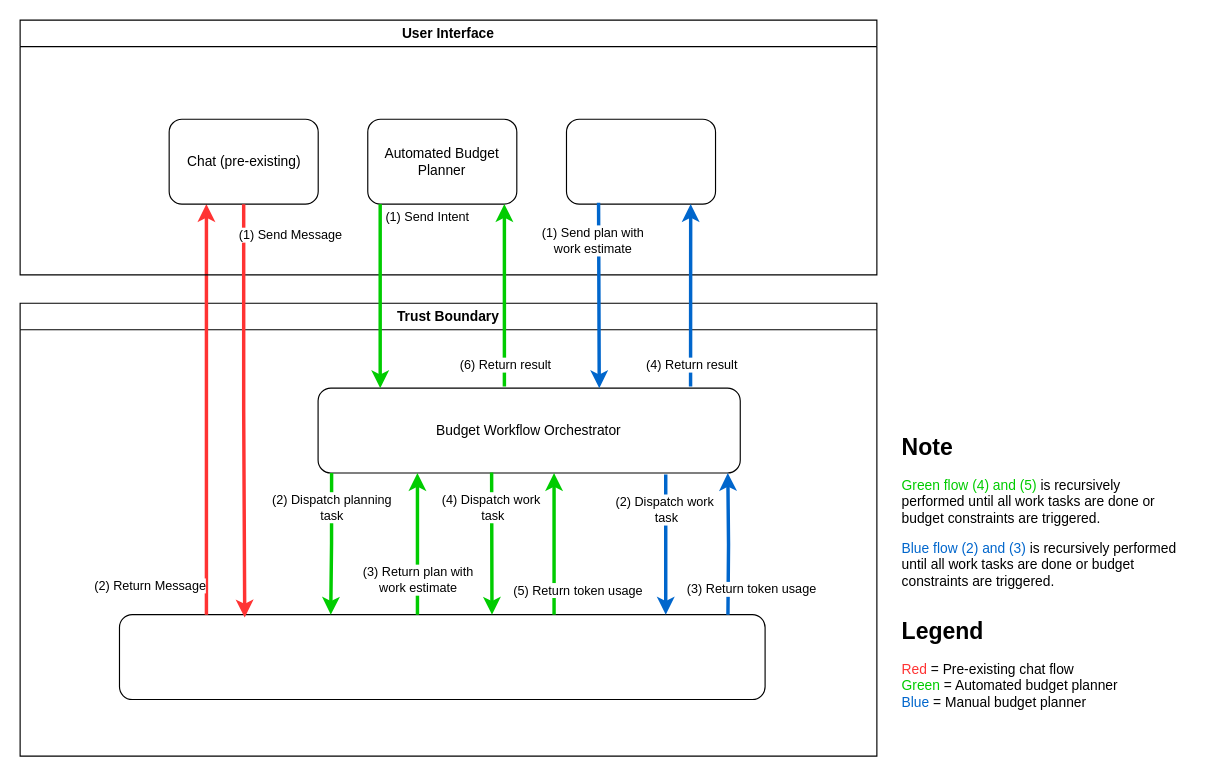
Some shapes in this 1208 by 776 pixel diagram are drawn without their labels. The shapes that lost their labels are listed below. From the top down, each one's centre as x and y in pixels, then its label:
[640,161]: Manual Budget Planner
[441,657]: Agent Runtime + Workspace
